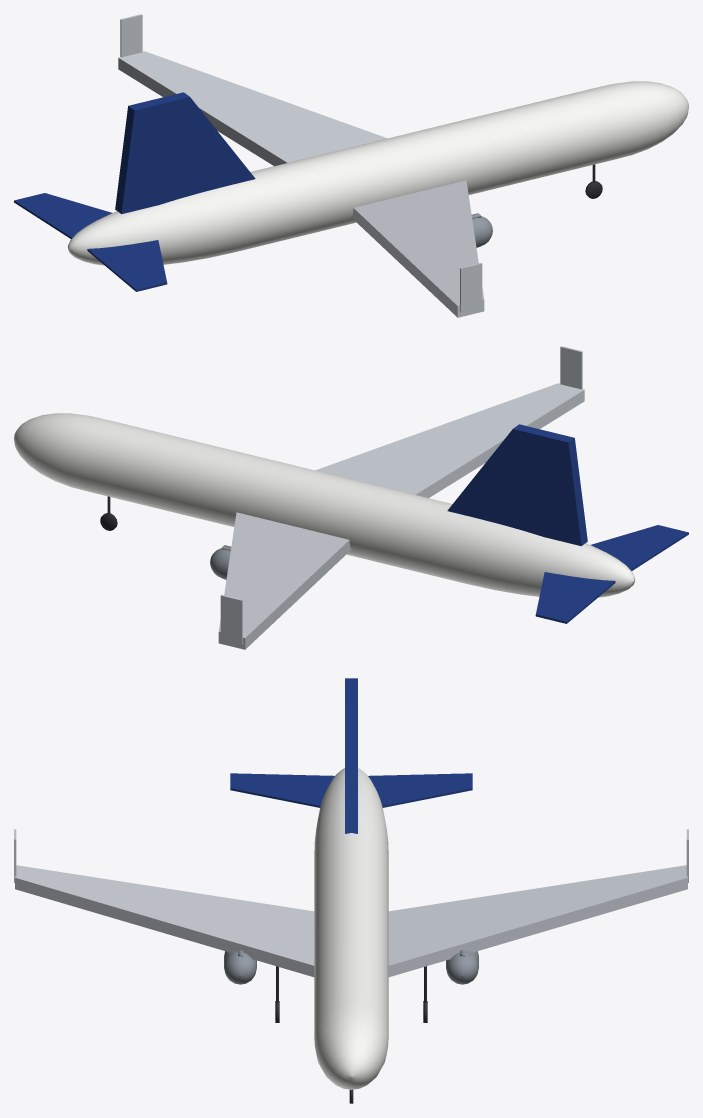
3 views of the same model, one above another, from view 1: azimuth 30°, elevation 25°; view 2: azimuth 150°, elevation 25°; view 3: azimuth 270°, elevation 25° (orthographic).
Visible parts, largest first — view 1: fuselage, wings, tail, engines; view 2: fuselage, wings, tail, engines; view 3: wings, fuselage, tail, engines.
Part boxes in pixels (x1,y1,x2,y2): fuselage: [67, 81, 688, 265]; wings: [118, 14, 484, 317]; tail: [14, 92, 255, 291]; engines: [471, 213, 492, 247]; fuselage: [14, 413, 635, 597]; wings: [218, 346, 584, 649]; tail: [447, 424, 688, 623]; engines: [210, 545, 231, 579]; wings: [14, 829, 688, 977]; fuselage: [314, 768, 388, 1089]; tail: [230, 678, 472, 833]; engines: [224, 949, 478, 984].
Size of the model in its own units: 37.6 by 11.79 by 35.92.
